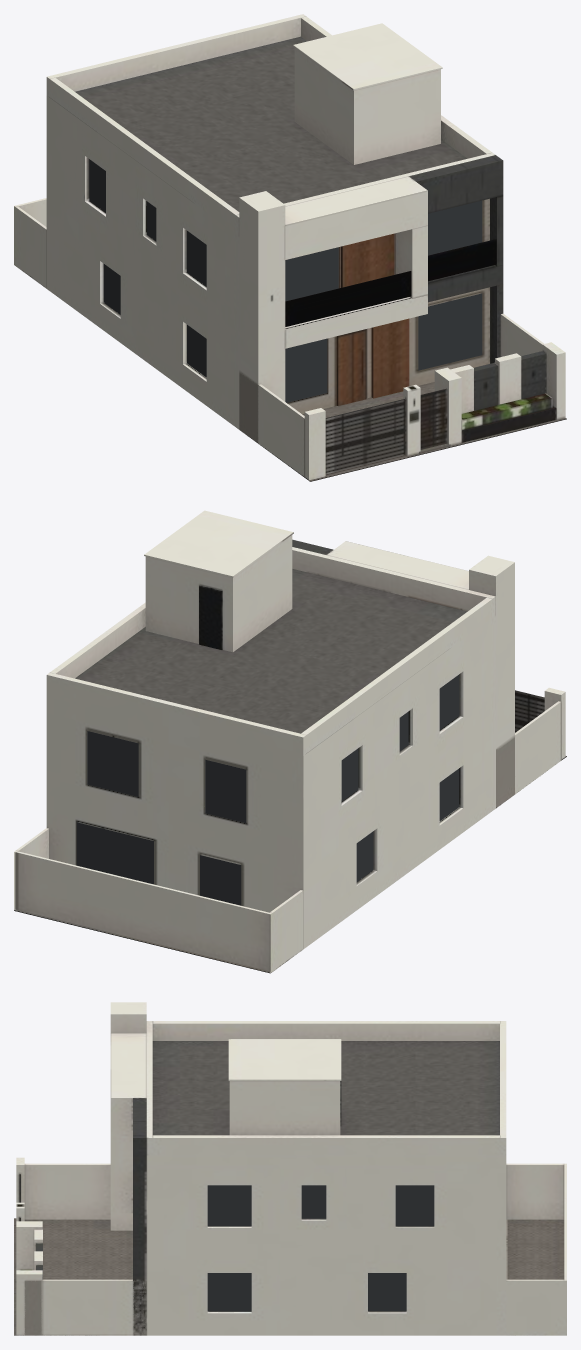
File: house_B_lod1.glb
3 views of the same model, one above another, from view 1: azimuth 30°, elevation 25°; view 2: azimuth 150°, elevation 25°; view 3: azimuth 270°, elevation 25° (orthographic). The views are drawn at different scales.
Visible parts, largest first — view 1: body, glass; view 2: body, glass; view 3: body, glass.
Boxes of the visible parts, box(x1,y1,x2,y2) form: body: box(14, 14, 566, 481); glass: box(89, 159, 482, 402); body: box(14, 510, 566, 973); glass: box(77, 674, 459, 905); body: box(14, 1002, 566, 1335); glass: box(207, 1185, 434, 1311).
Bounding box in the file's own units: 10 × 10.05 × 20.
2 materials, 1 textured.
